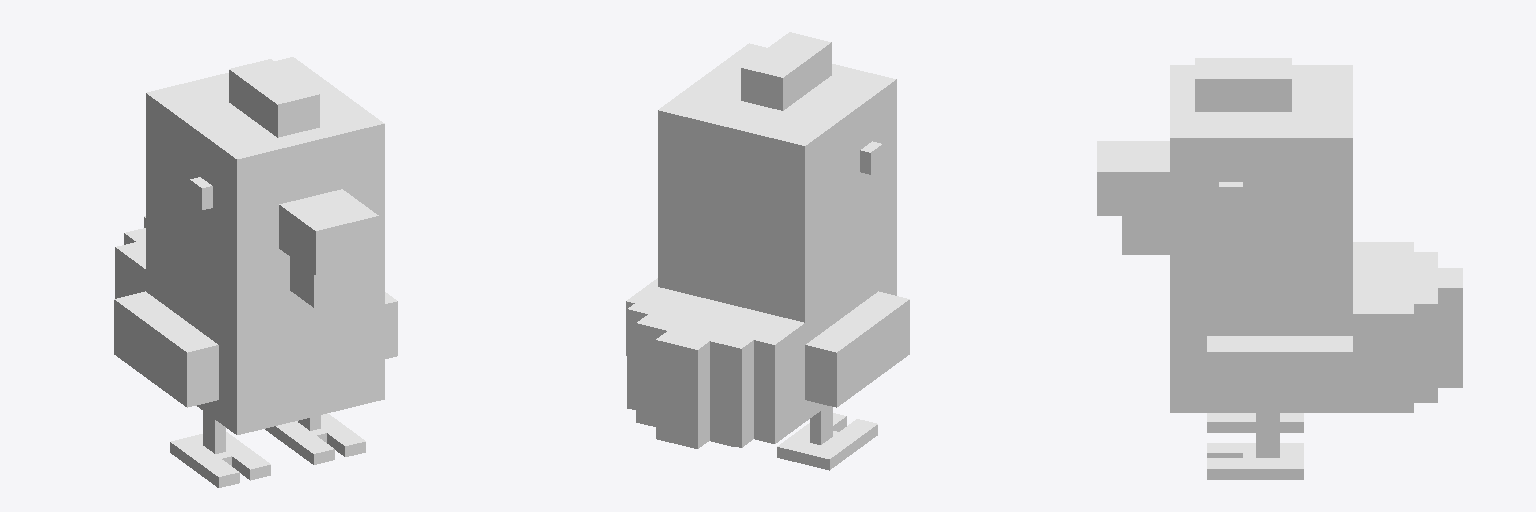
The model's file is gallina.obj.
The picture shows the model from 3 angles: view 1: azimuth 30°, elevation 25°; view 2: azimuth 150°, elevation 25°; view 3: azimuth 270°, elevation 25°; orthographic projection.
Bounding box in the file's own units: 20 × 34 × 30.